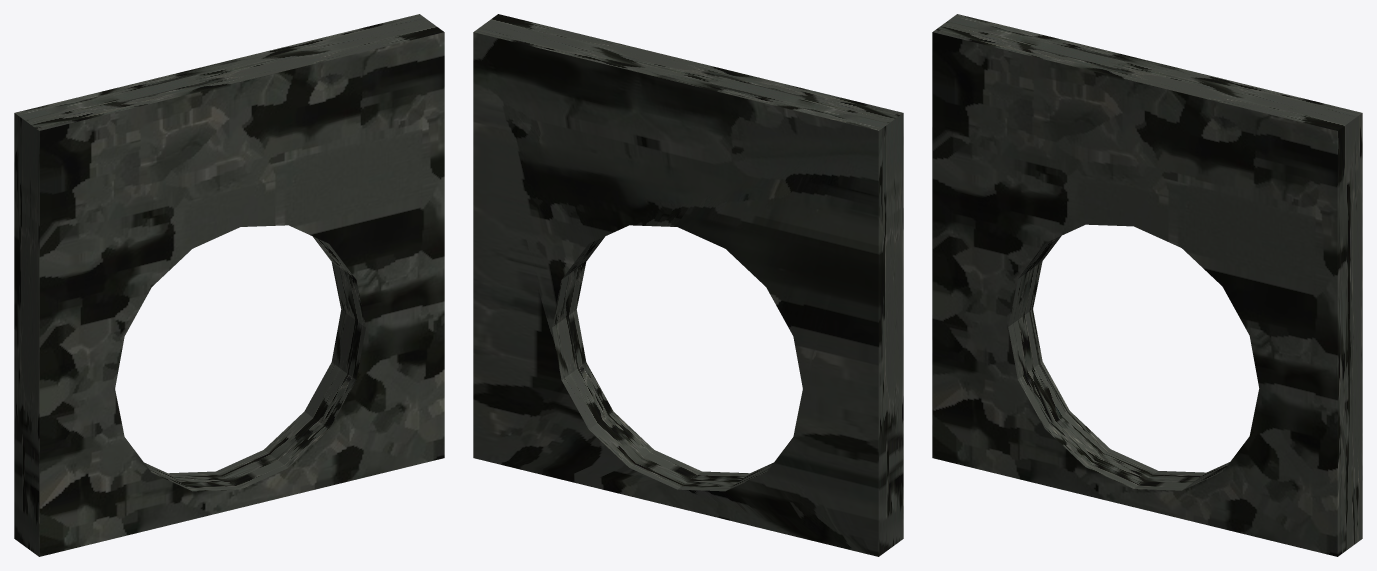
The model's file is Crawlway_Entrace_Round_ColliderMesh.fbx.
3 renders of one model, left to right at view 1: azimuth 30°, elevation 25°; view 2: azimuth 150°, elevation 25°; view 3: azimuth 330°, elevation 25°, orthographic.
Visible parts, largest first — view 1: Wall_SewerEntrance_Round_CollisionMesh; view 2: Wall_SewerEntrance_Round_CollisionMesh; view 3: Wall_SewerEntrance_Round_CollisionMesh.
Part boxes in pixels (x1,y1,x2,y2): Wall_SewerEntrance_Round_CollisionMesh: [14, 14, 444, 556]; Wall_SewerEntrance_Round_CollisionMesh: [473, 14, 903, 556]; Wall_SewerEntrance_Round_CollisionMesh: [932, 14, 1362, 556].
Bounding box in the file's own units: 299 × 301 × 31.73.
Materials: 1 (1 with a texture image).
